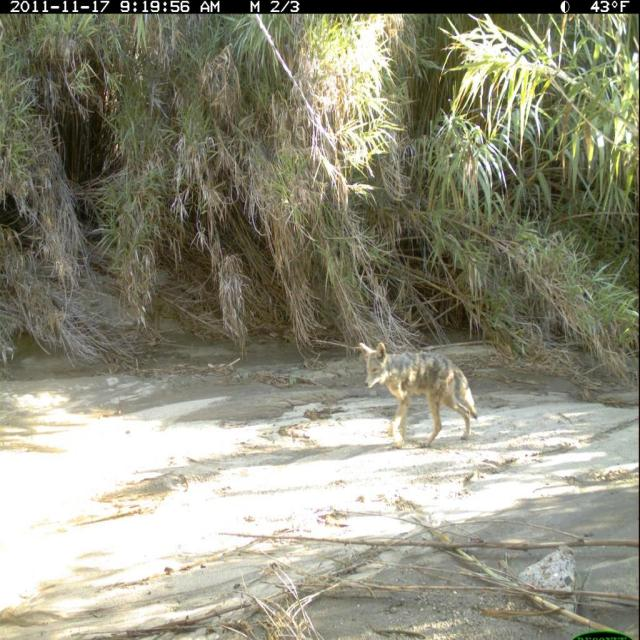coyote: (353, 332, 482, 459)
